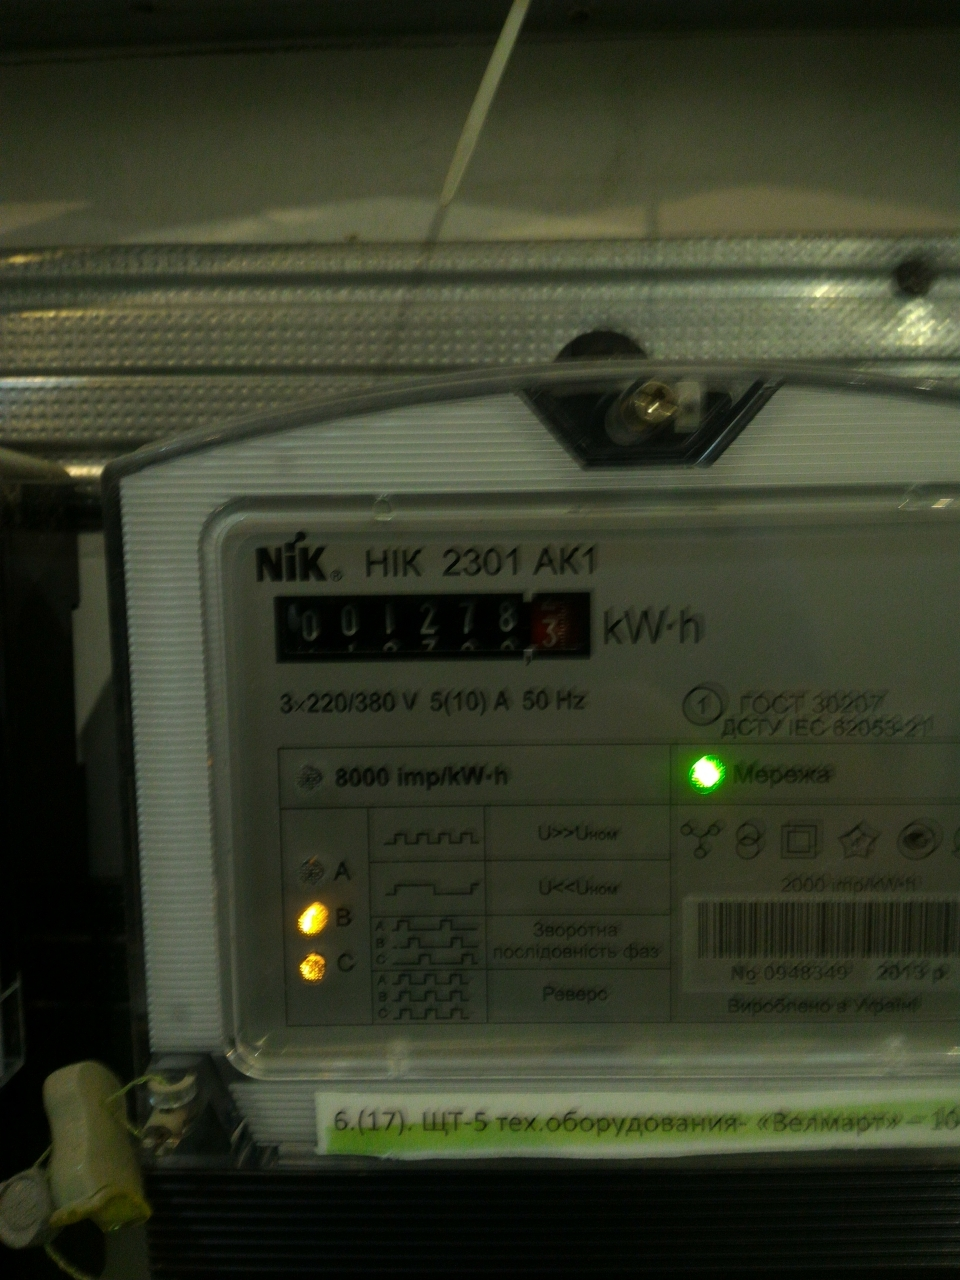0: (337, 602, 360, 637), (298, 607, 320, 643)
1: (381, 600, 395, 636)
2: (416, 600, 439, 637)
3: (539, 615, 558, 648)
7: (457, 599, 476, 635)
8: (496, 599, 516, 633)
screen: (258, 578, 609, 675)
